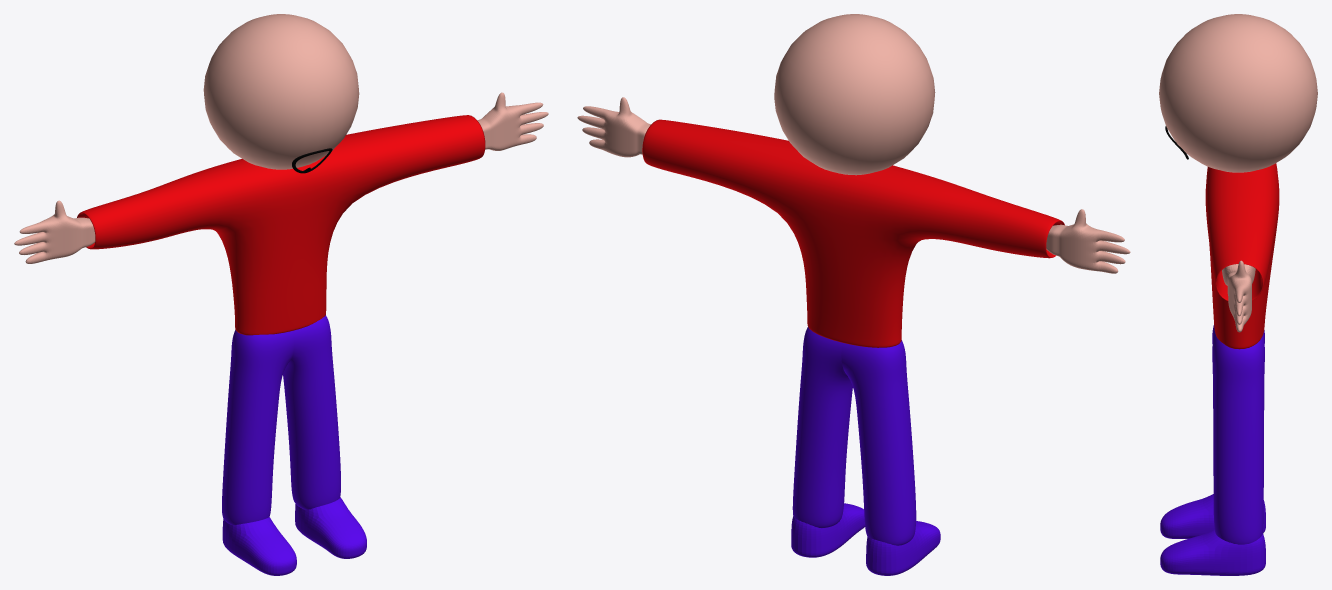
File: Enemy01.fbx
3 renders of one model, left to right at view 1: azimuth 30°, elevation 25°; view 2: azimuth 150°, elevation 25°; view 3: azimuth 270°, elevation 25°, orthographic. The views are drawn at different scales.
Parts seen in each view (by area): view 1: Cube, Sphere, Cube.005, Cube.006, Cube.007, Cube.009, Cube.008; view 2: Cube, Sphere, Cube.005, Cube.009, Cube.008, Cube.006, Cube.007; view 3: Sphere, Cube.005, Cube, Cube.007, Cube.006, Cube.008.
Boxes of the visible parts, <box> form: Cube: <box>77,115,485,335</box>; Sphere: <box>203,14,359,169</box>; Cube.005: <box>222,315,340,524</box>; Cube.006: <box>222,517,296,575</box>; Cube.007: <box>295,497,366,558</box>; Cube.009: <box>14,200,95,263</box>; Cube.008: <box>477,92,548,150</box>; Cube: <box>642,119,1064,347</box>; Sphere: <box>774,14,935,175</box>; Cube.005: <box>792,327,916,545</box>; Cube.009: <box>1046,209,1130,273</box>; Cube.008: <box>577,97,650,157</box>; Cube.006: <box>866,521,940,575</box>; Cube.007: <box>791,503,865,557</box>; Sphere: <box>1159,14,1317,172</box>; Cube.005: <box>1212,325,1264,544</box>; Cube: <box>1205,163,1279,349</box>; Cube.007: <box>1160,529,1265,575</box>; Cube.006: <box>1160,494,1265,538</box>; Cube.008: <box>1222,260,1255,332</box>.
Size of the model in its own units: 791 by 736 by 200.
